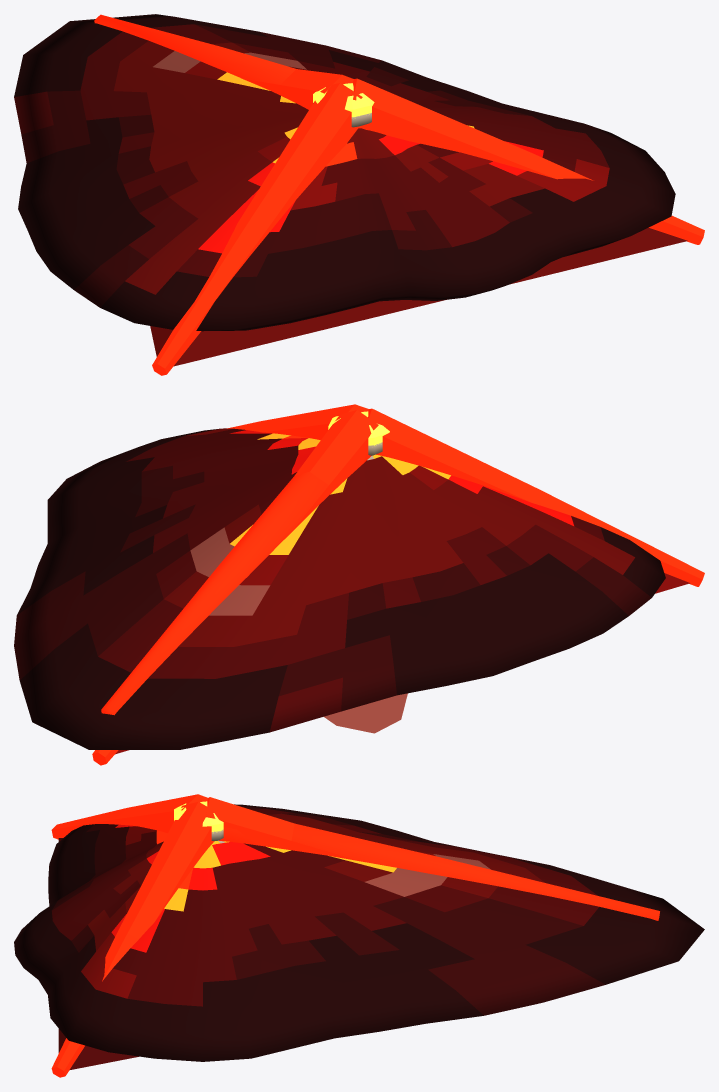
The model's file is newshg-77.glb.
3 views of the same model, one above another, from view 1: azimuth 30°, elevation 25°; view 2: azimuth 150°, elevation 25°; view 3: azimuth 270°, elevation 25° (orthographic). The views are drawn at different scales.
Visible parts, largest first — view 1: newshg-77-119, newshg-77, newshg-77-knot-77; view 2: newshg-77-119, newshg-77, newshg-77-glint-79; view 3: newshg-77-119, newshg-77.
Boxes of the visible parts, x1,y1,x2,y2 form: newshg-77-119: [14, 14, 675, 331]; newshg-77: [150, 69, 704, 375]; newshg-77-knot-77: [313, 83, 374, 118]; newshg-77-119: [14, 428, 665, 749]; newshg-77: [92, 404, 704, 765]; newshg-77-glint-79: [324, 693, 407, 733]; newshg-77-119: [14, 804, 704, 1061]; newshg-77: [51, 794, 363, 1077].
Bounding box in the file's own units: 1.56 × 0.5216 × 1.79.
